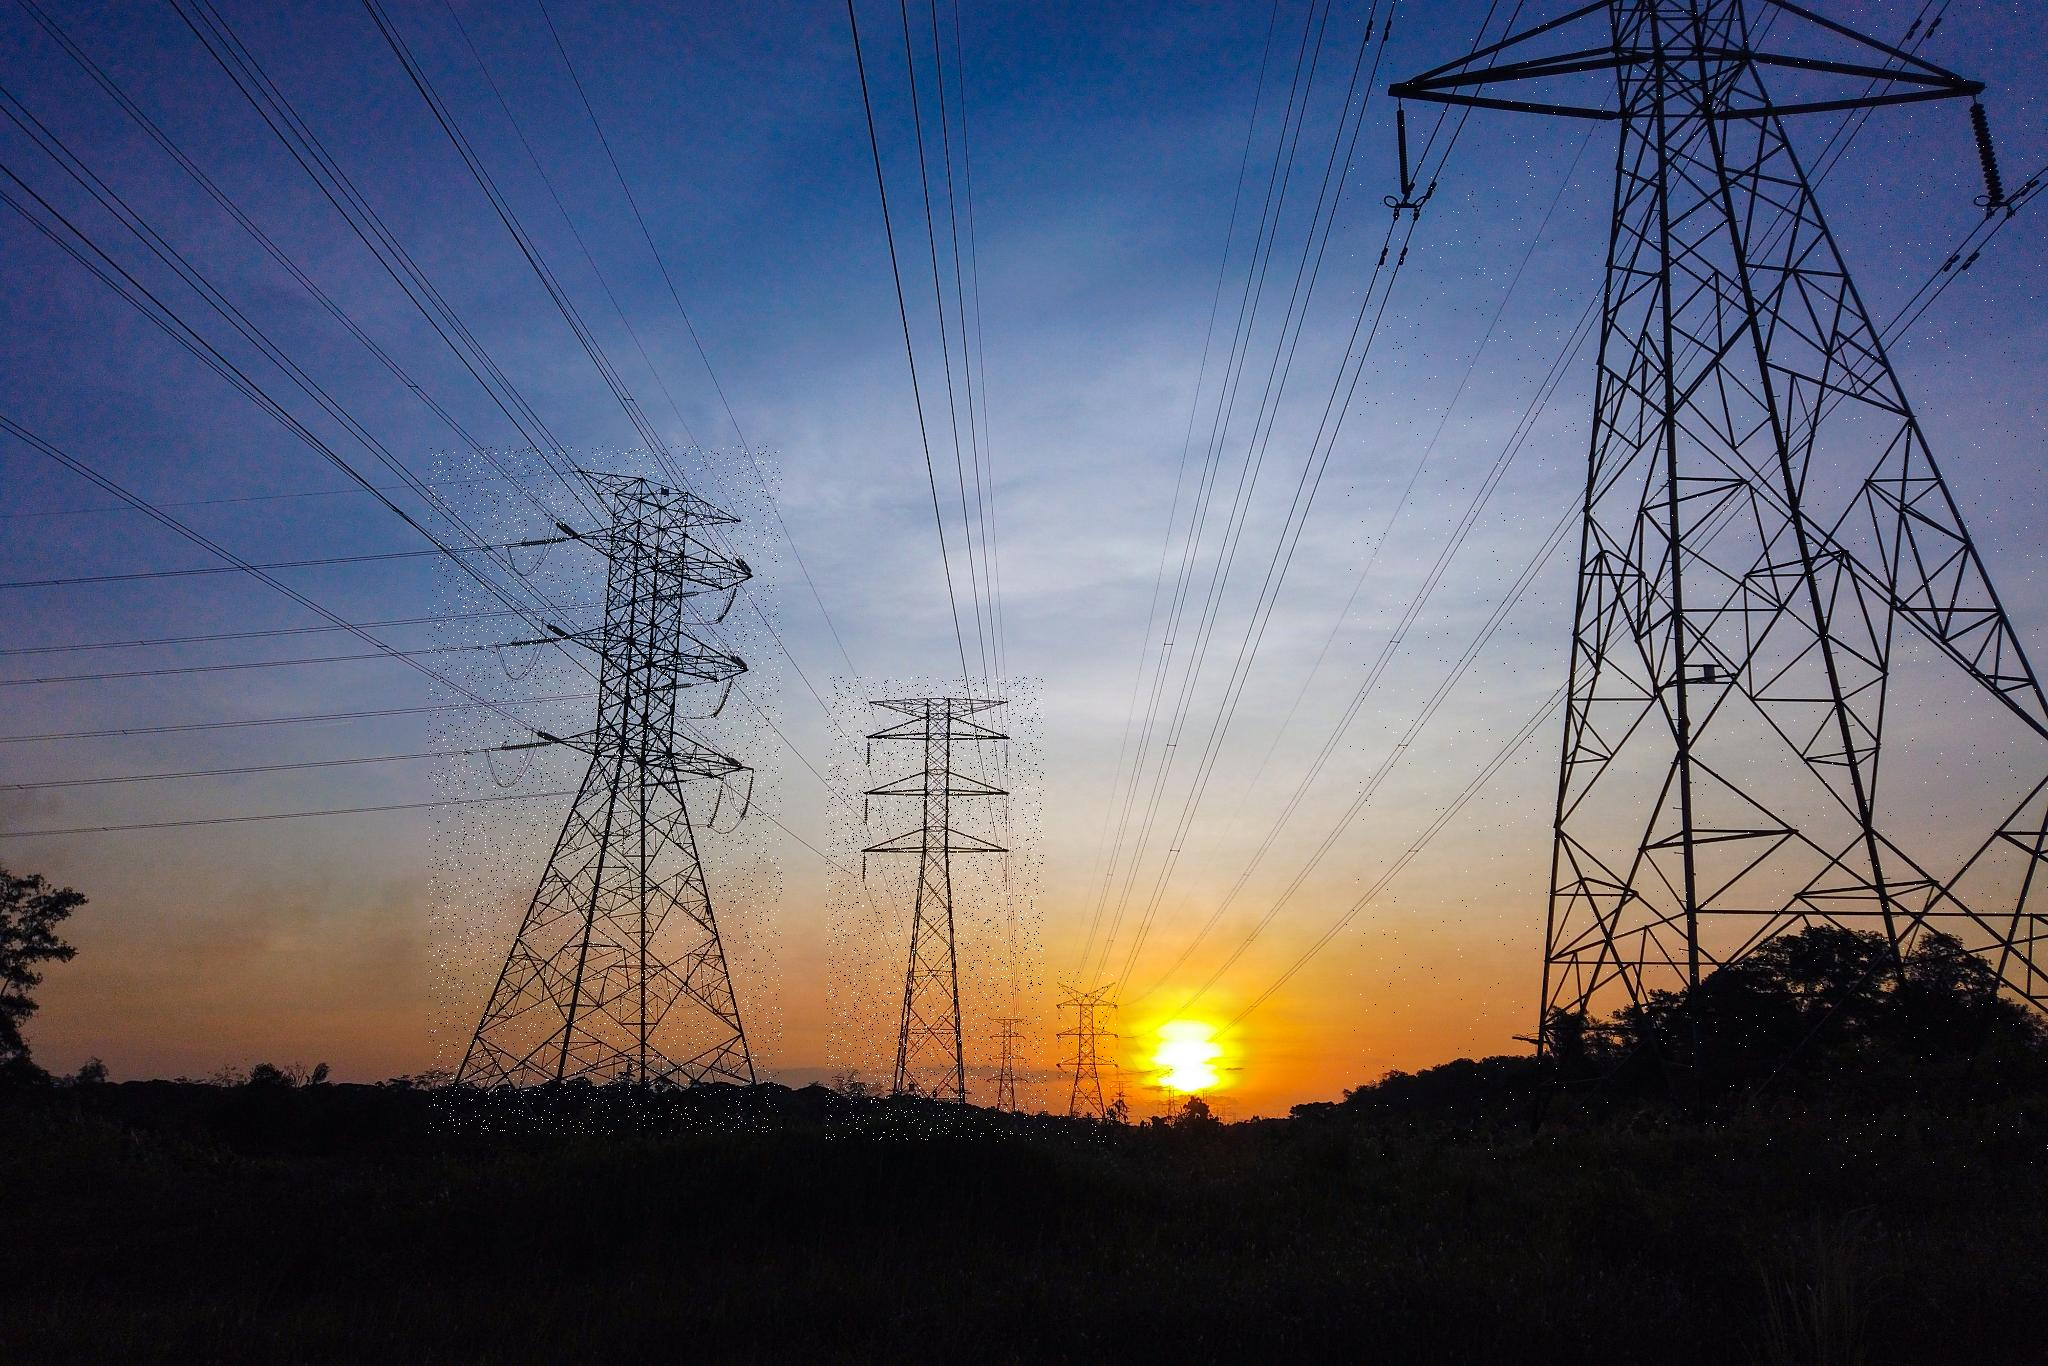cable tower: (1344, 0, 2048, 1175), (428, 445, 782, 1134), (826, 675, 1044, 1140), (977, 988, 1047, 1142), (1058, 970, 1115, 1143)
